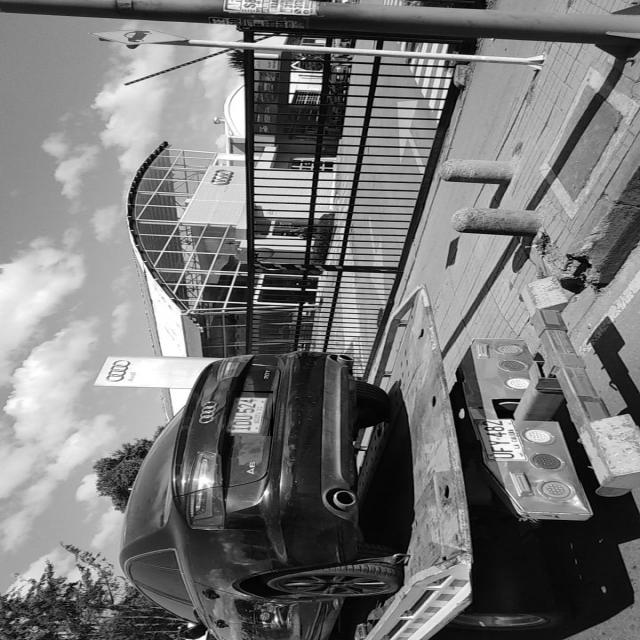plate: (226, 392, 273, 436)
